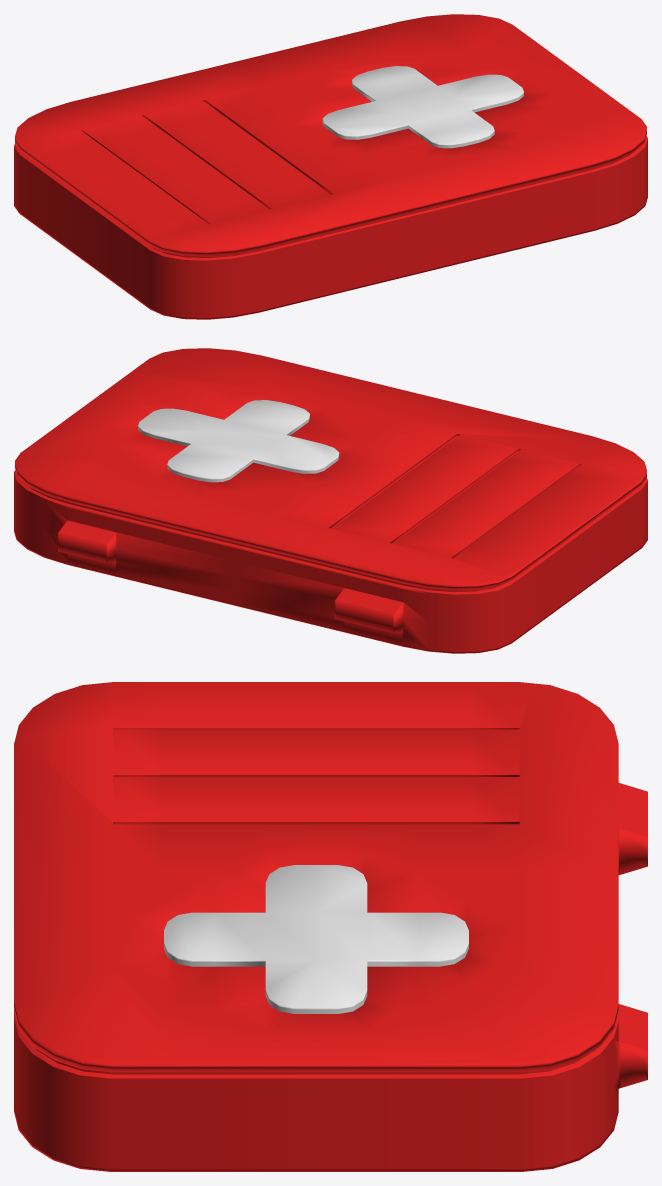
File: firstaid.glb
3 renders of one model, top to bottom at view 1: azimuth 30°, elevation 25°; view 2: azimuth 150°, elevation 25°; view 3: azimuth 270°, elevation 25°, orthographic. The views are drawn at different scales.
Visible parts, largest first — view 1: Cube; view 2: Cube; view 3: Cube.
Boxes of the visible parts, bbox=[...] form: Cube: bbox=[14, 14, 647, 319]; Cube: bbox=[14, 348, 647, 653]; Cube: bbox=[14, 682, 647, 1171].
Bounding box in the file's own units: 0.3836 × 0.0552 × 0.271.
